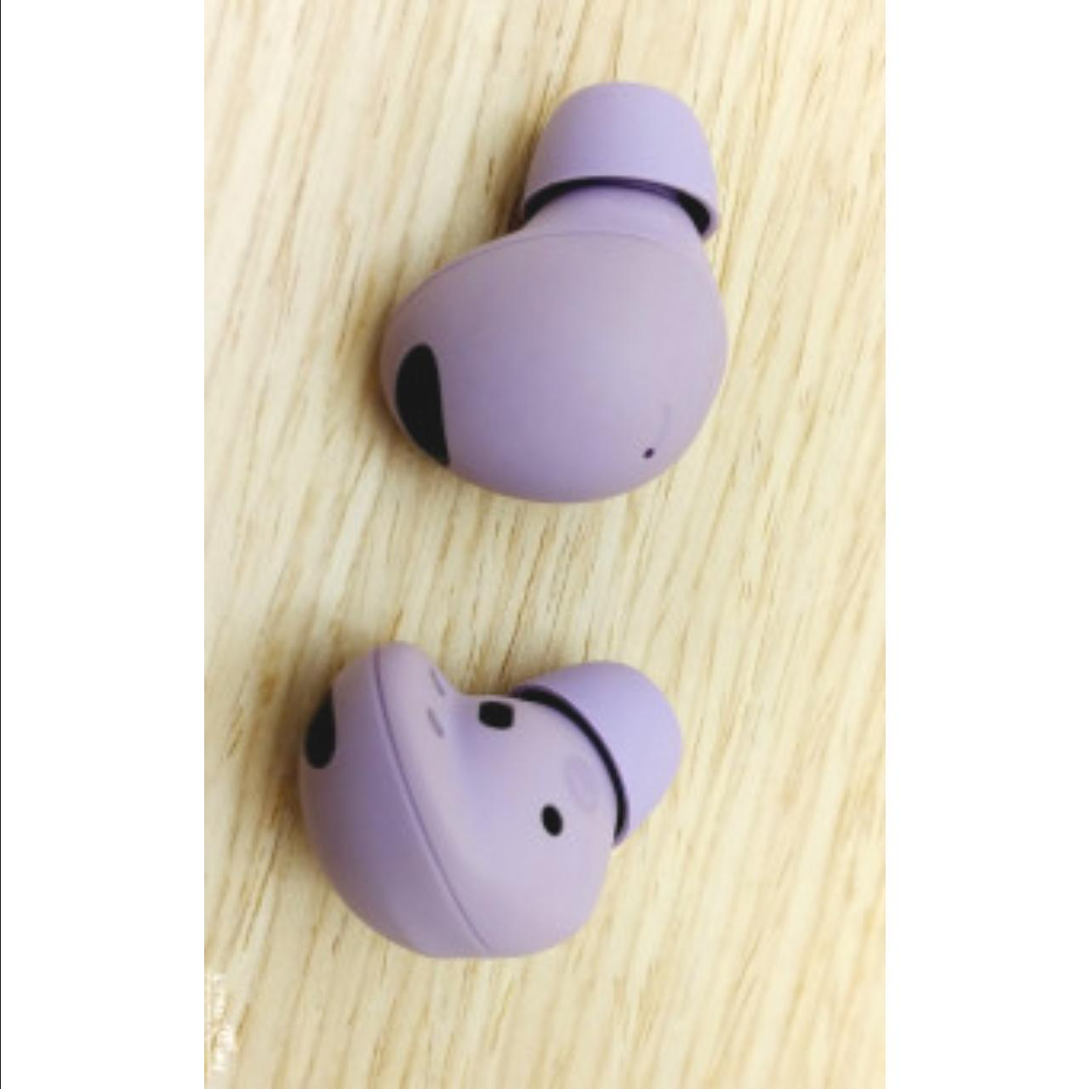Buds_Units: (353, 74, 752, 513), (286, 633, 692, 965)
